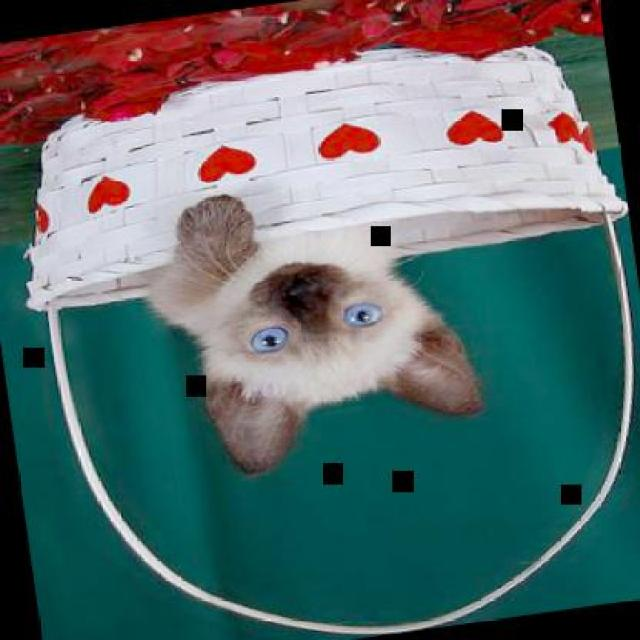cat: (134, 162, 492, 487)
